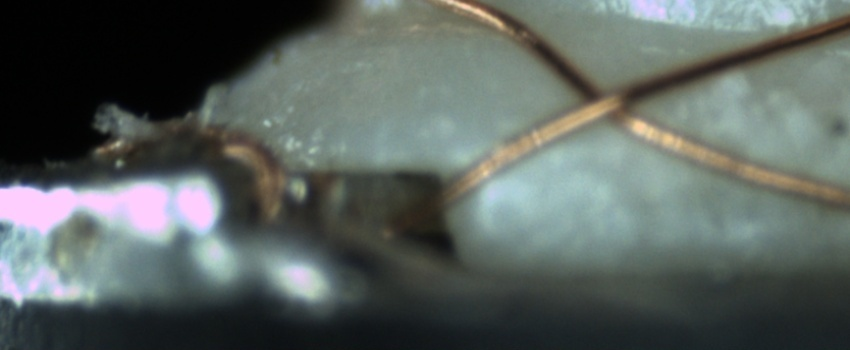CL: (551, 55, 676, 142)
DL: (484, 136, 615, 197)
TE: (90, 120, 285, 230)
